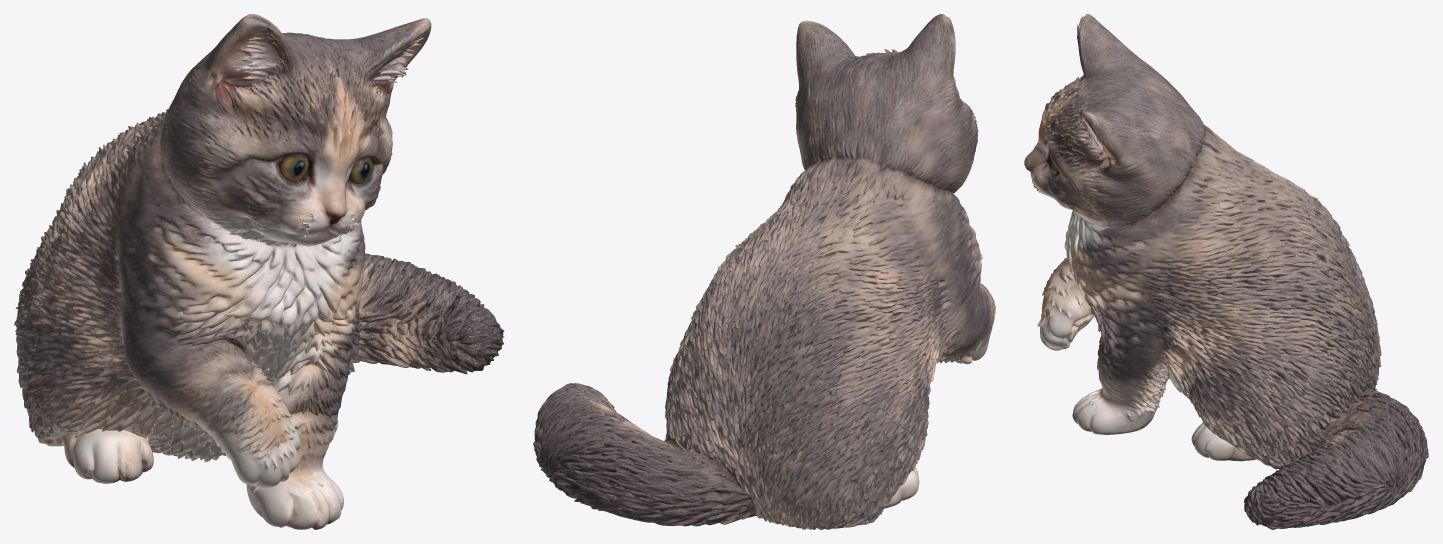
Rendered from kitten-light.glb.
The picture shows the model from 3 angles, left to right: view 1: azimuth 30°, elevation 25°; view 2: azimuth 150°, elevation 25°; view 3: azimuth 270°, elevation 25°; orthographic projection. The views are drawn at different scales.
Parts seen in each view (by area): view 1: kitten; view 2: kitten; view 3: kitten.
Boxes of the visible parts, x1,y1,x2,y2 form: kitten: [14, 14, 504, 529]; kitten: [533, 14, 995, 529]; kitten: [1024, 14, 1428, 529].
Size of the model in its own units: 0.2309 by 0.2499 by 0.2367.
1 material, 1 textured.
